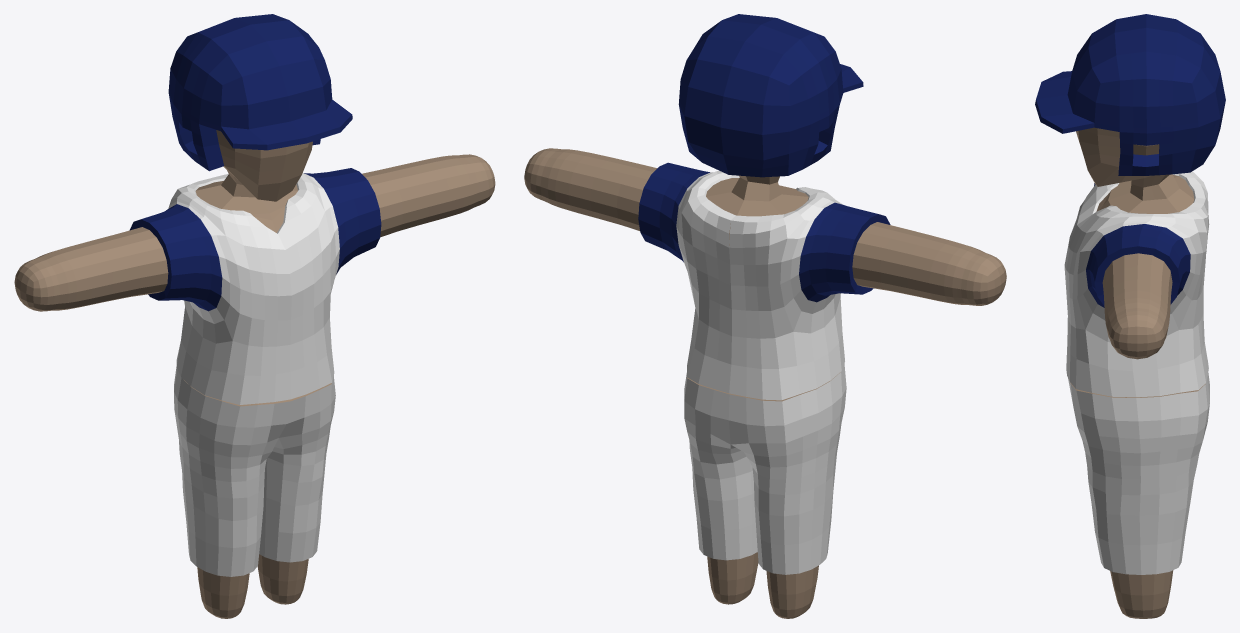
File: Mod4.glb
3 views of the same model, side by side, from view 1: azimuth 30°, elevation 25°; view 2: azimuth 150°, elevation 25°; view 3: azimuth 270°, elevation 25° (orthographic).
Visible parts, largest first — view 1: Modelo 4a; view 2: Modelo 4a; view 3: Modelo 4a.
Boxes of the visible parts, x1,y1,x2,y2 form: Modelo 4a: (14, 14, 495, 618); Modelo 4a: (524, 14, 1006, 618); Modelo 4a: (1035, 14, 1225, 618).
Size of the model in its own units: 7.96 by 9.37 by 2.83.
